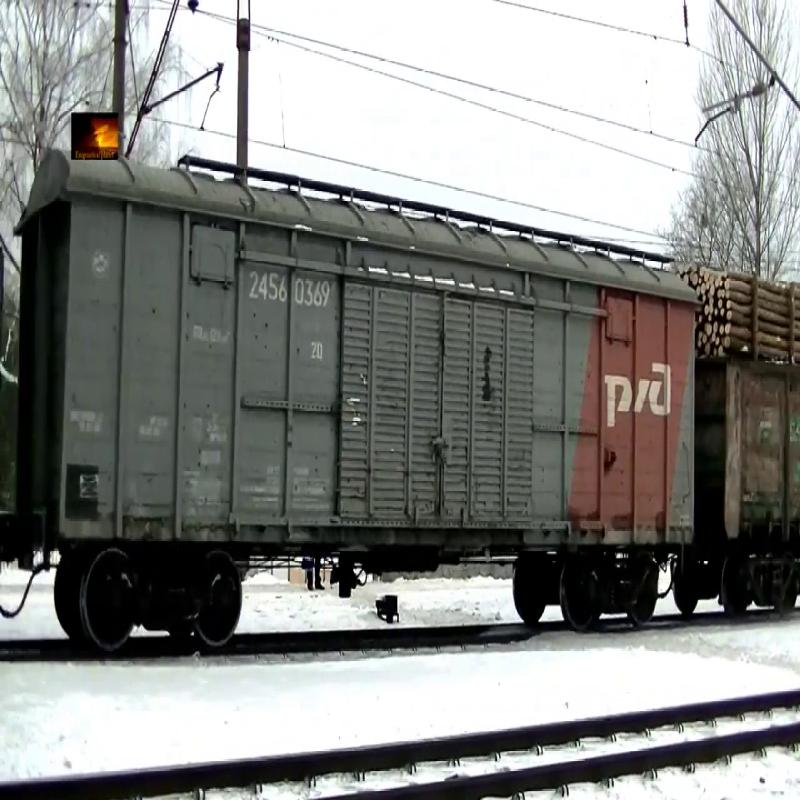train: (63, 156, 698, 622)
